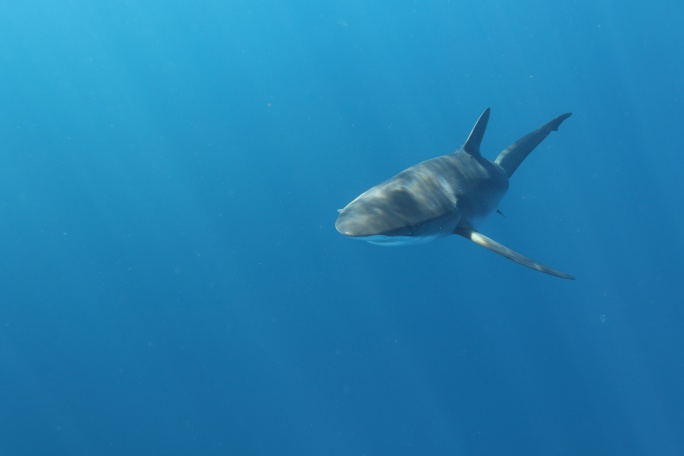Sedoso: (313, 96, 602, 284)
